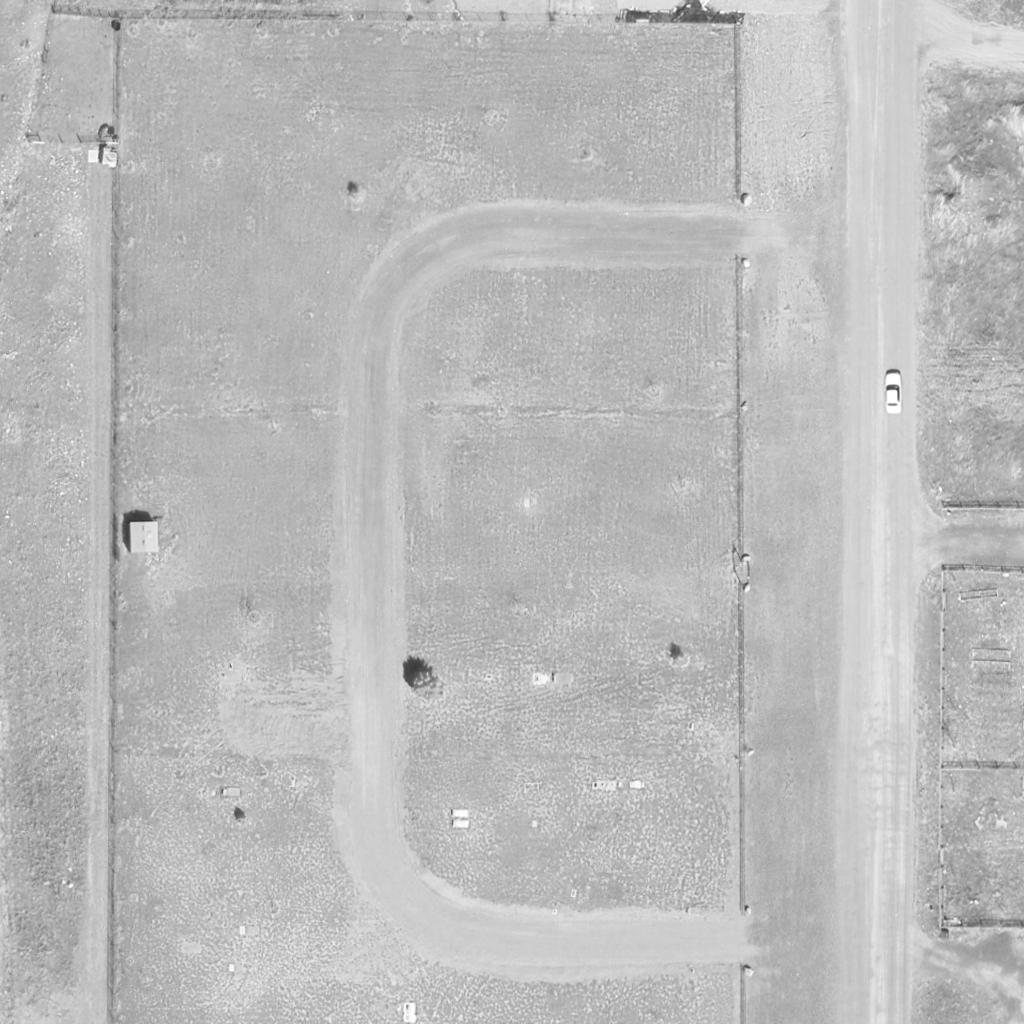vehicle: (883, 368, 905, 416)
